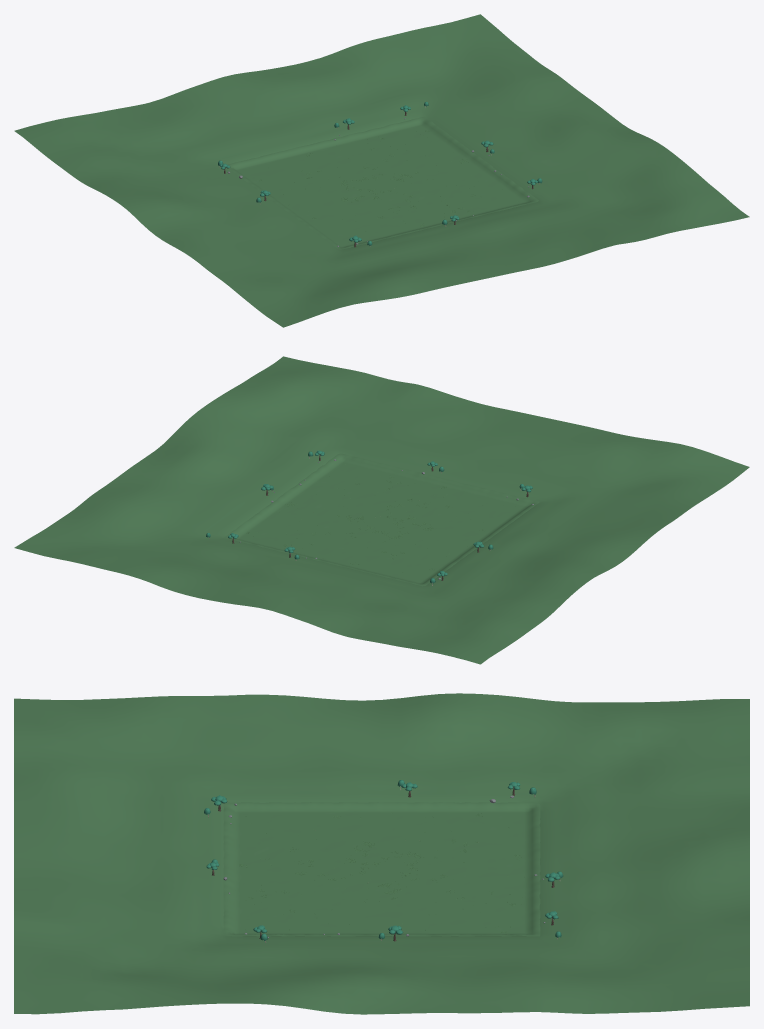
File: creature_field_ground.glb
3 views of the same model, one above another, from view 1: azimuth 30°, elevation 25°; view 2: azimuth 150°, elevation 25°; view 3: azimuth 270°, elevation 25° (orthographic). The views are drawn at different scales.
Visible parts, largest first — view 1: CreatureFieldHills, CreatureField; view 2: CreatureFieldHills, CreatureField; view 3: CreatureFieldHills, CreatureField.
Part boxes in pixels (x1=…): CreatureFieldHills: x1=14, y1=14, x2=749, y2=327; CreatureField: x1=228, y1=116, x2=538, y2=249; CreatureFieldHills: x1=14, y1=356, x2=749, y2=664; CreatureField: x1=224, y1=453, x2=539, y2=586; CreatureFieldHills: x1=14, y1=693, x2=749, y2=1014; CreatureField: x1=223, y1=802, x2=540, y2=936.
Bounding box in the file's own units: 400 × 16.29 × 400.
